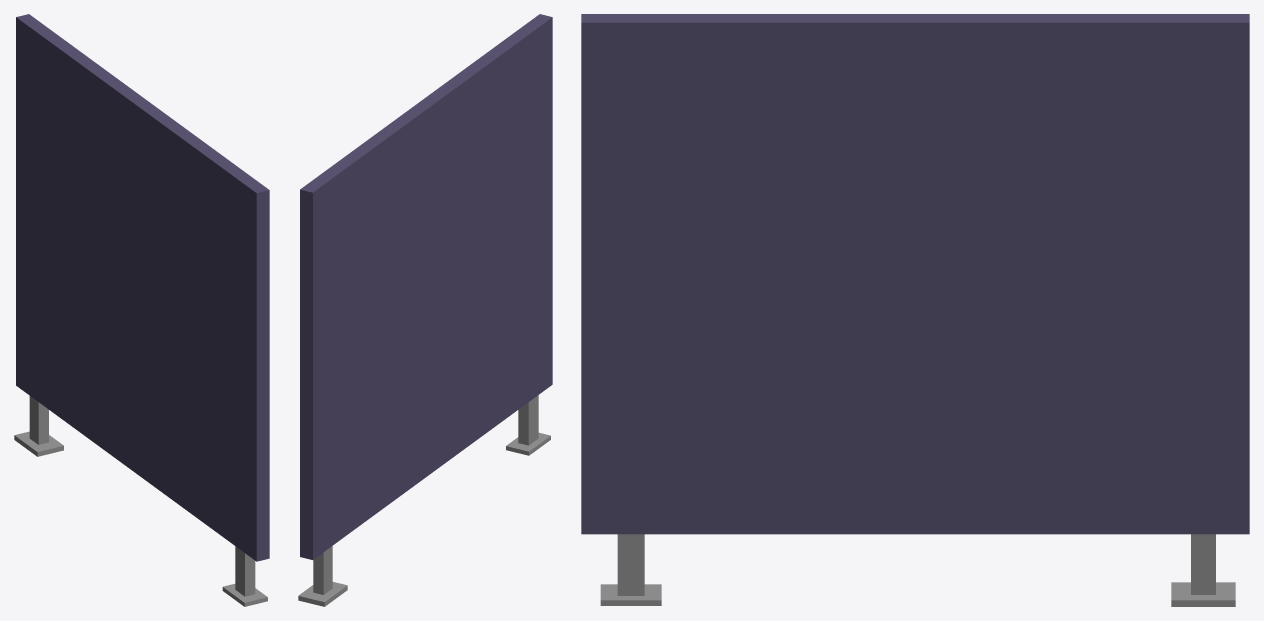
Rendered from stall wall.fbx.
The picture shows the model from 3 angles, left to right: view 1: azimuth 30°, elevation 25°; view 2: azimuth 150°, elevation 25°; view 3: azimuth 270°, elevation 25°; orthographic projection. The views are drawn at different scales.
Parts seen in each view (by area): view 1: Stall Wall 2; view 2: Stall Wall 2; view 3: Stall Wall 2.
Part boxes in pixels (x1,y1,x2,y2): Stall Wall 2: [14, 14, 269, 606]; Stall Wall 2: [298, 14, 552, 606]; Stall Wall 2: [581, 14, 1249, 606].
Bounding box in the file's own units: 94.13 × 1416 × 1479.
